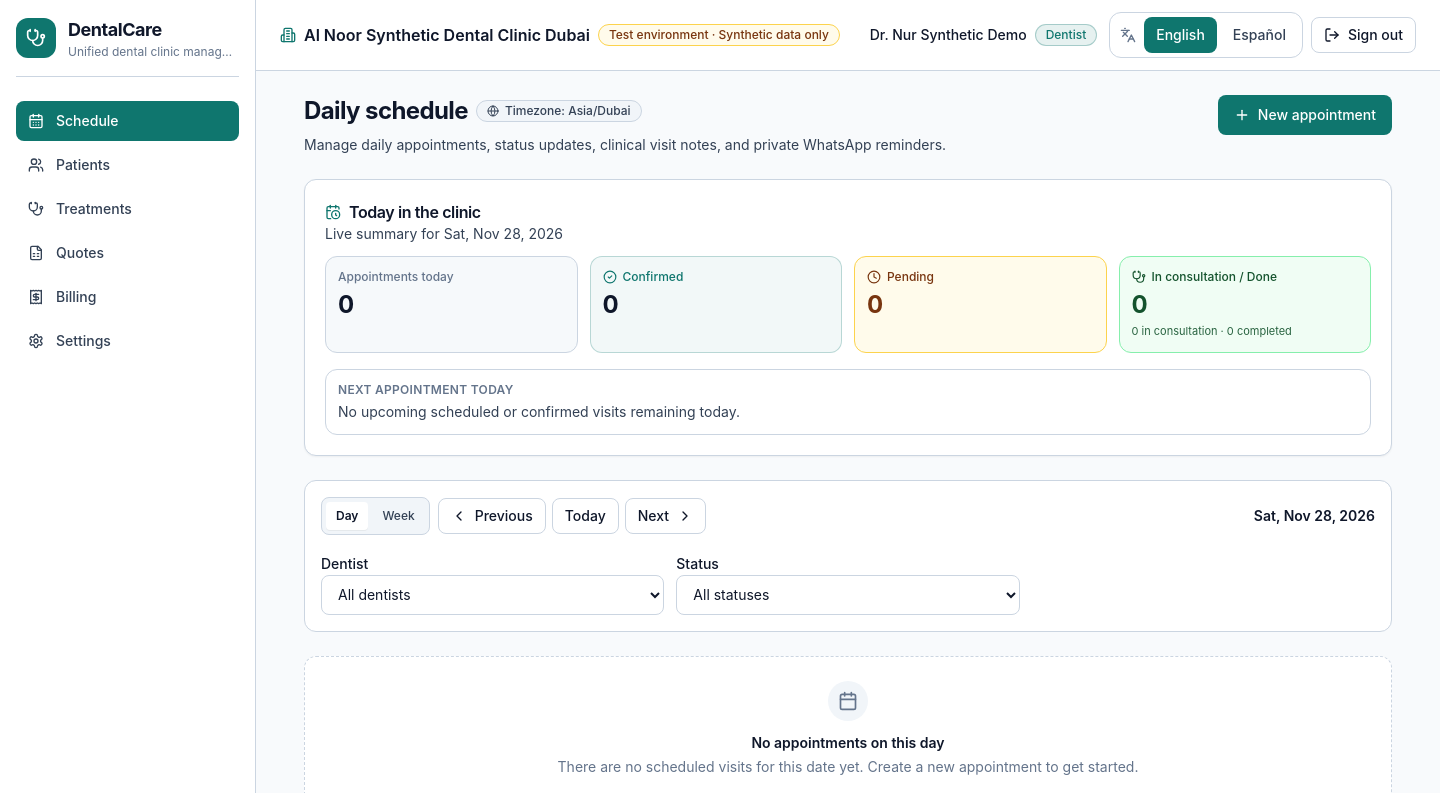
Scenario: T-03 Authentication, Route Protection, and Clinic Shell Flow › 5b. redirects cleanly to /login WITHOUT session-expired error on manual sign-out
Expected: the heading "Daily schedule" is shown, x1=304 y1=95 x2=468 y2=127
Click the button "Sign out" at x=1364, y=35, box x1=1311 y1=17 x2=1416 y2=53
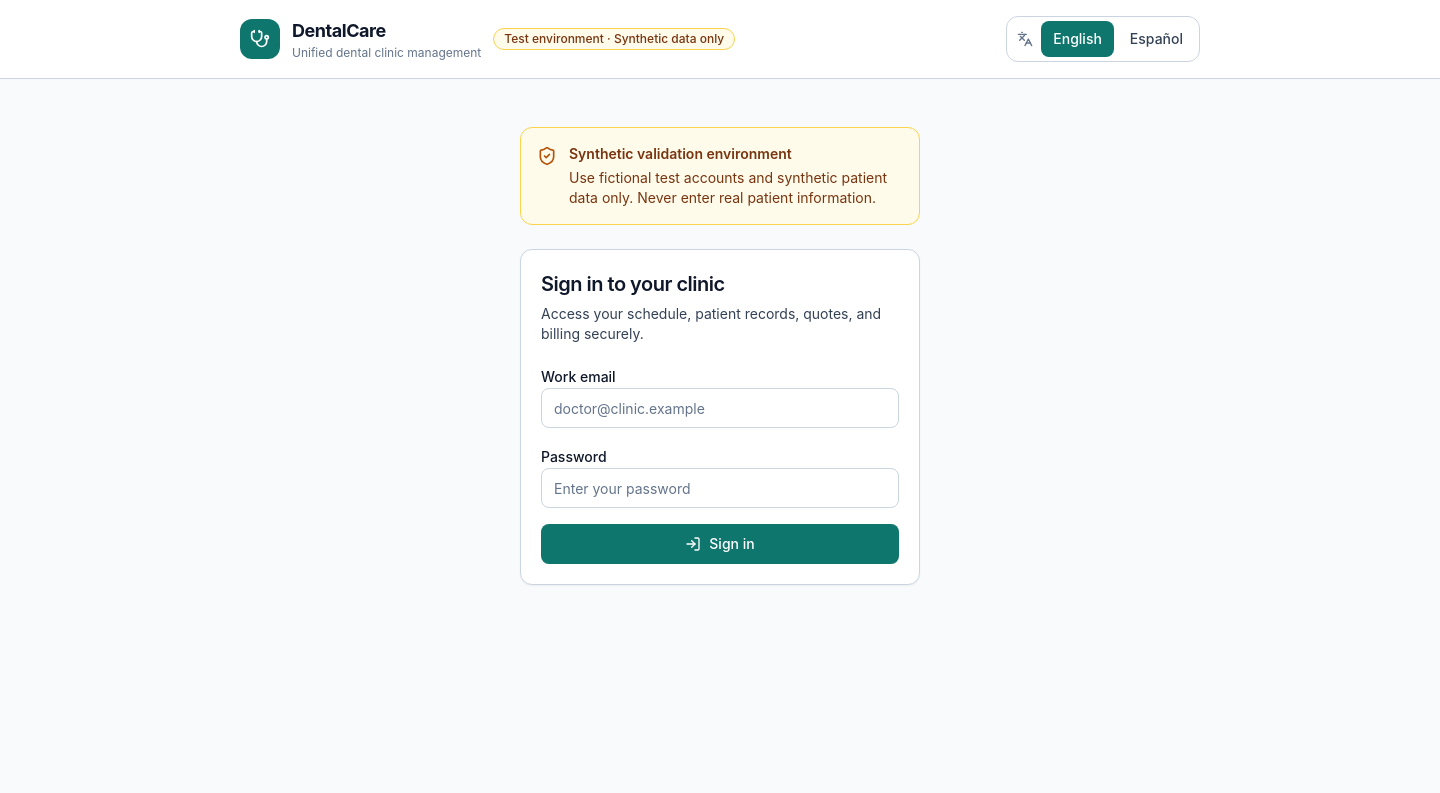
Now the heading "Sign in to your clinic" is shown, box x1=541 y1=272 x2=725 y2=296
